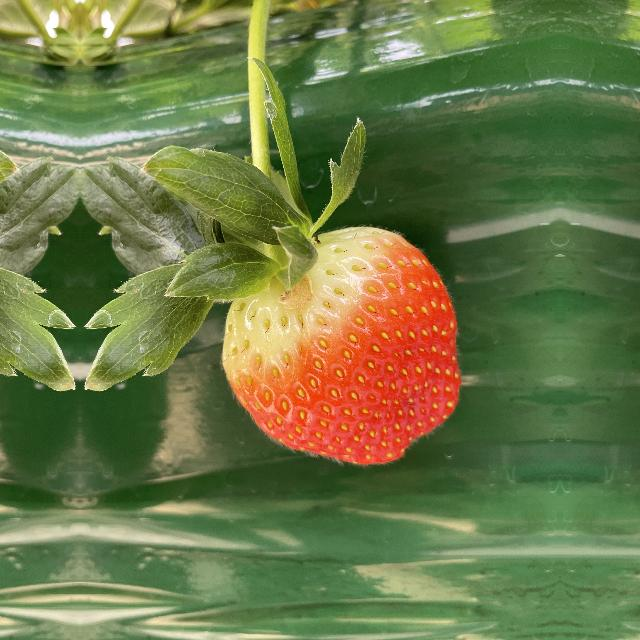Health_100: (221, 212, 467, 468)
